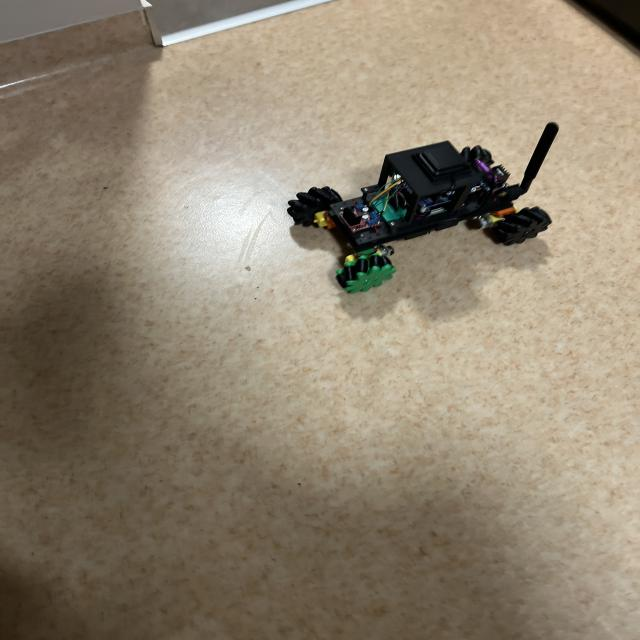robot: (287, 123, 559, 293)
